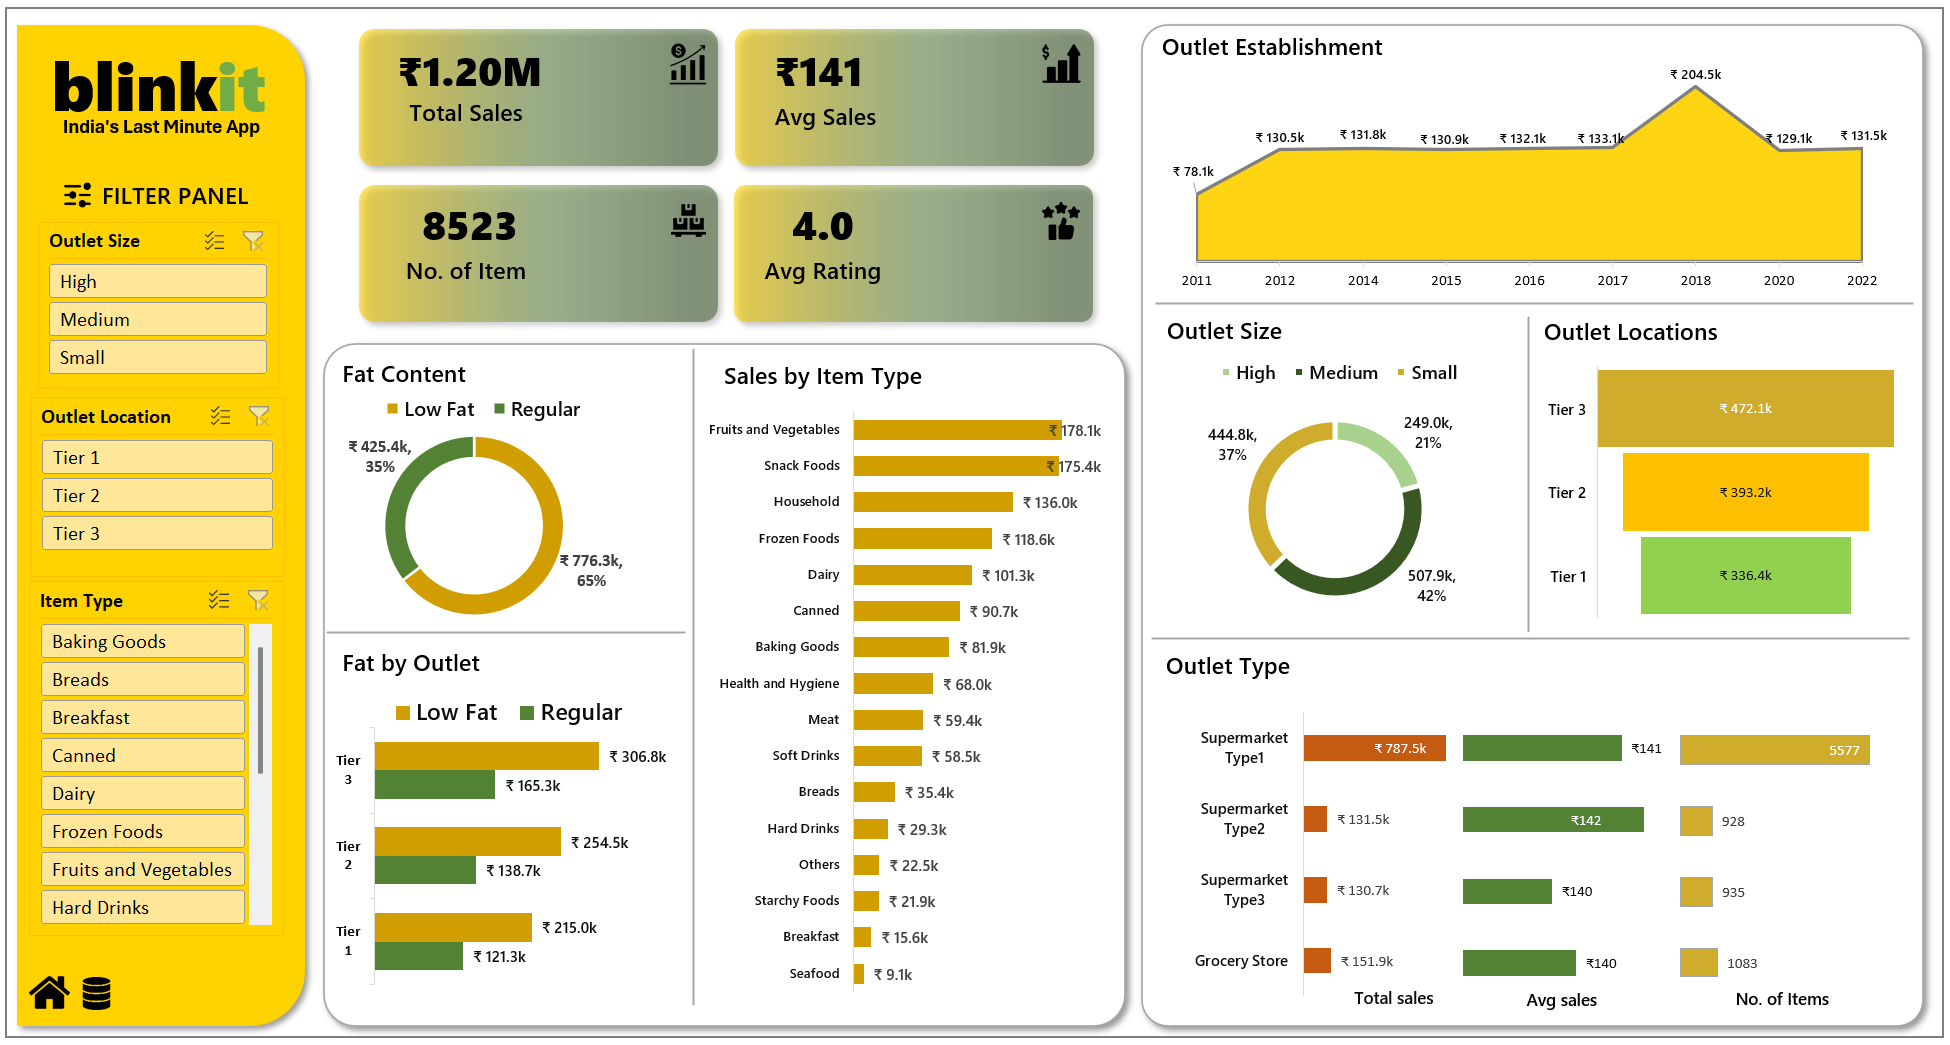

This screenshot's page, from the dashboard's own definition file:
{"tool":"powerbi","page":{"name":"Overview Dashboard","canvas":[2300,1100],"ordinal":1},"visuals":[{"type":"shape","box":[7.1,12.9,257.1,1078.6],"z":0},{"type":"shape","box":[655.8,140.3,248.1,122.1],"z":0,"group":"g4"},{"type":"shape","box":[929.5,141.6,248.1,122.1],"z":0,"group":"g5"},{"type":"image","box":[17,153.3,79.2,45.5],"z":0,"group":"g1"},{"type":"shape","box":[1235.1,11.7,1051.9,1076.6],"z":1000},{"type":"cardVisual","fields":{"Data":["Count(Dataset.Item Type)"]},"box":[664.9,140.3,227.3,118.2],"z":1000,"group":"g4"},{"type":"cardVisual","fields":{"Data":["Sum(Dataset.Item Visibility)"]},"box":[926,140.6,254.5,119.5],"z":1000,"group":"g5"},{"type":"textbox","box":[83.2,152,181.8,58.4],"z":1000,"group":"g1"},{"type":"textbox","box":[30,21.4,200,108.6],"z":2000},{"type":"textbox","box":[5.7,84.3,252.9,78.6],"z":3000},{"type":"shape","box":[283.1,13,274,120.8],"z":4000},{"type":"shape","box":[271.8,271.4,955.8,818.2],"z":4000,"group":"g2"},{"type":"shape","box":[580.5,13.5,297.4,120.8],"z":5000},{"type":"barChart","title":"Sales by Item Type","fields":{"Y":["Sum(Dataset.Sales)"],"Category":["Dataset.Item Type"]},"box":[696.5,275.3,532.5,819.5],"z":6000,"group":"g2"},{"type":"textbox","box":[1246.7,736.7,181.7,51.7],"z":6000},{"type":"donutChart","title":"Fat Content","fields":{"Category":["Dataset.Item Fat Content"],"Y":["Sum(Dataset.Sales)"]},"box":[290,279.2,394.8,319.5],"z":7000,"group":"g2"},{"type":"slicer","fields":{"Values":["Dataset.Outlet Size"]},"box":[28.6,320,212.9,158.6],"z":7000},{"type":"group","id":"g1","title":"Group 1","box":[17,152,248.1,58.4],"z":8000},{"type":"clusteredBarChart","title":"Fat by Outlet locations","fields":{"Y":["Sum(Dataset.Sales)"],"Series":["Dataset.Item Fat Content"],"Category":["Dataset.Outlet Location Type"]},"box":[290,627.2,432.5,462.3],"z":8000,"group":"g2"},{"type":"slicer","fields":{"Values":["Dataset.Outlet Location Type"]},"box":[28.6,491.4,212.9,140],"z":9000},{"type":"shape","box":[275.7,600,407.8,35.1],"z":9000,"group":"g2"},{"type":"shape","box":[679.4,278.7,21.8,806.5],"z":10000,"group":"g2"},{"type":"slicer","fields":{"Values":["Dataset.Outlet Establishment Year"]},"box":[27.1,645.7,212.9,347.1],"z":10000},{"type":"slicer","fields":{"Values":["Dataset.Item Type"]},"box":[30,211.4,212.9,97.1],"z":11000},{"type":"areaChart","fields":{"Category":["Dataset.Outlet Establishment Year"],"Y":["Sum(Dataset.Sales)"]},"box":[1243.4,23.9,1021.7,368.3],"z":12000},{"type":"cardVisual","fields":{"Data":["Sum(Dataset.Sales)"]},"box":[298.7,17.9,180.5,115.6],"z":13000},{"type":"donutChart","title":"Outlet Size","fields":{"Y":["Sum(Dataset.Sales)"],"Category":["Dataset.Outlet Size"]},"box":[1255.1,400.6,450,340],"z":14000},{"type":"cardVisual","fields":{"Data":["Avg(Dataset.Sales)"]},"box":[592.2,18.7,197.4,119.5],"z":15000},{"type":"shape","box":[1246.7,378.9,1021.7,33.3],"z":16000},{"type":"image","box":[472.7,32.5,68.8,67.5],"z":17000},{"type":"group","id":"g2","title":"Group 3","box":[271.8,271.4,957.1,823.4],"z":18000},{"type":"funnel","title":"Outlet Location","fields":{"Category":["Dataset.Outlet Location Type"],"Y":["Sum(Dataset.Sales)"]},"box":[1826.7,400.6,413.3,348.3],"z":19000},{"type":"shape","box":[328.6,140.3,297.4,122.1],"z":20000,"group":"g3"},{"type":"shape","box":[1761.7,408.9,28.3,311.7],"z":20000},{"type":"cardVisual","fields":{"Data":["Avg(Dataset.Rating)"]},"box":[328.6,140.3,209.1,119.5],"z":21000,"group":"g3"},{"type":"shape","box":[1241.7,713.9,1025,35],"z":21000},{"type":"shape","box":[905.2,11.7,297.4,122.1],"z":22000},{"type":"image","box":[523.7,149.4,100,84.4],"z":22000,"group":"g3"},{"type":"barChart","fields":{"Category":["Dataset.Outlet Type"],"Y":["Sum(Dataset.Sales)"]},"box":[1241.7,750.6,585,330],"z":23000},{"type":"image","box":[771.5,31.7,90.9,68.8],"z":24000},{"type":"barChart","fields":{"Category":["Dataset.Outlet Type"],"Y":["Avg(Dataset.Sales)"]},"box":[1771.7,777.3,291.7,273.3],"z":25000},{"type":"cardVisual","fields":{"Data":["CountNonNull(Dataset.Sr. No.)"]},"box":[920.8,18.2,197.4,119.5],"z":26000},{"type":"barChart","fields":{"Category":["Dataset.Outlet Type"],"Y":["Sum(Dataset.Sr. No.)"]},"box":[2013.4,777.3,278.3,273.3],"z":27000},{"type":"image","box":[1110.4,29.9,81.8,70.1],"z":28000},{"type":"textbox","box":[1480.1,1037.3,143.3,41.7],"z":29000},{"type":"textbox","box":[1830.1,1037.3,143.3,41.7],"z":30000},{"type":"textbox","box":[2063.4,1040.6,143.3,41.7],"z":31000},{"type":"group","id":"g3","title":"Group 2","box":[328.6,140.3,297.4,122.1],"z":32000},{"type":"group","id":"g4","title":"Group 4","box":[655.8,140.3,248.1,122.1],"z":33000},{"type":"group","id":"g5","title":"Group 4","box":[926,140.6,254.5,123.1],"z":34000},{"type":"image","box":[51.4,1002.9,78.6,75.7],"z":35000},{"type":"image","box":[136.2,997.5,88.8,85],"z":36000}]}

Visuals, with their boxes on the page's 2300x1100 design canvas (x1, y1, x2, y2). These are canvas units, not pixel positions in the 1950x1045 screenshot, which may show the page scaled, cropped or inside an application window:
shape: (7, 13, 264, 1092)
shape: (656, 140, 904, 262)
shape: (930, 142, 1178, 264)
image: (17, 153, 96, 199)
shape: (1235, 12, 2287, 1088)
cardVisual - Count(Dataset.Item Type): (665, 140, 892, 258)
cardVisual - Sum(Dataset.Item Visibility): (926, 141, 1180, 260)
textbox: (83, 152, 265, 210)
textbox: (30, 21, 230, 130)
textbox: (6, 84, 259, 163)
shape: (283, 13, 557, 134)
shape: (272, 271, 1228, 1090)
shape: (580, 14, 878, 134)
"Sales by Item Type" barChart: (696, 275, 1229, 1095)
textbox: (1247, 737, 1428, 788)
"Fat Content" donutChart: (290, 279, 685, 599)
slicer - Dataset.Outlet Size: (29, 320, 242, 479)
"Group 1" group: (17, 152, 265, 210)
"Fat by Outlet locations" clusteredBarChart: (290, 627, 722, 1090)
slicer - Dataset.Outlet Location Type: (29, 491, 242, 631)
shape: (276, 600, 684, 635)
shape: (679, 279, 701, 1085)
slicer - Dataset.Outlet Establishment Year: (27, 646, 240, 993)
slicer - Dataset.Item Type: (30, 211, 243, 308)
areaChart - Dataset.Outlet Establishment Year x Sum(Dataset.Sales): (1243, 24, 2265, 392)
cardVisual - Sum(Dataset.Sales): (299, 18, 479, 134)
"Outlet Size" donutChart: (1255, 401, 1705, 741)
cardVisual - Avg(Dataset.Sales): (592, 19, 790, 138)
shape: (1247, 379, 2268, 412)
image: (473, 32, 542, 100)
"Group 3" group: (272, 271, 1229, 1095)
"Outlet Location" funnel: (1827, 401, 2240, 749)
shape: (329, 140, 626, 262)
shape: (1762, 409, 1790, 721)
cardVisual - Avg(Dataset.Rating): (329, 140, 538, 260)
shape: (1242, 714, 2267, 749)
shape: (905, 12, 1203, 134)
image: (524, 149, 624, 234)
barChart - Dataset.Outlet Type x Sum(Dataset.Sales): (1242, 751, 1827, 1081)
image: (772, 32, 862, 100)
barChart - Dataset.Outlet Type x Avg(Dataset.Sales): (1772, 777, 2063, 1051)
cardVisual - CountNonNull(Dataset.Sr. No.): (921, 18, 1118, 138)
barChart - Dataset.Outlet Type x Sum(Dataset.Sr. No.): (2013, 777, 2292, 1051)
image: (1110, 30, 1192, 100)
textbox: (1480, 1037, 1623, 1079)
textbox: (1830, 1037, 1973, 1079)
textbox: (2063, 1041, 2207, 1082)
"Group 2" group: (329, 140, 626, 262)
"Group 4" group: (656, 140, 904, 262)
"Group 4" group: (926, 141, 1180, 264)
image: (51, 1003, 130, 1079)
image: (136, 998, 225, 1082)
